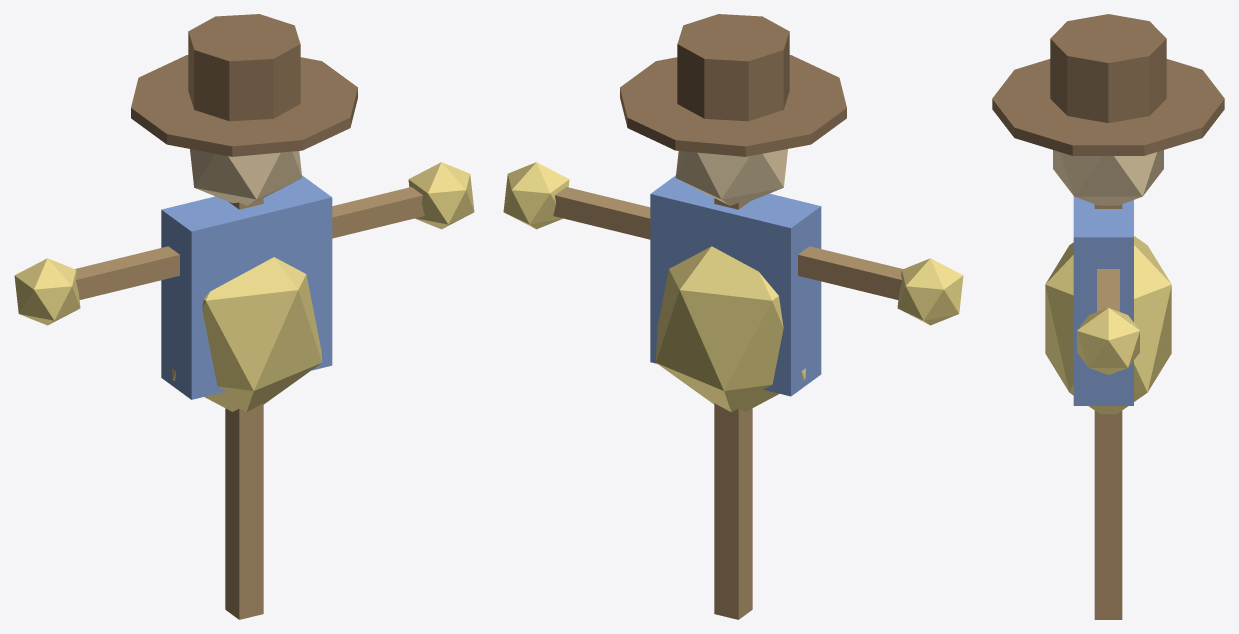
Rendered from Scarecrow.glb.
3 views of the same model, side by side, from view 1: azimuth 30°, elevation 25°; view 2: azimuth 150°, elevation 25°; view 3: azimuth 270°, elevation 25° (orthographic).
Parts seen in each view (by area): view 1: Scarecrow_Shirt, Scarecrow_Body, Scarecrow_Brim, Scarecrow_Hat, Scarecrow_Pole, Scarecrow_Arms, Scarecrow_Head, Scarecrow_Hand, Scarecrow_Hand.001; view 2: Scarecrow_Shirt, Scarecrow_Body, Scarecrow_Brim, Scarecrow_Hat, Scarecrow_Pole, Scarecrow_Arms, Scarecrow_Head, Scarecrow_Hand, Scarecrow_Hand.001; view 3: Scarecrow_Brim, Scarecrow_Hat, Scarecrow_Shirt, Scarecrow_Body, Scarecrow_Pole, Scarecrow_Head, Scarecrow_Hand.001, Scarecrow_Arms.
Boxes of the visible parts, x1,y1,x2,y2 form: Scarecrow_Shirt: (161,175,332,399); Scarecrow_Body: (172,257,322,412); Scarecrow_Brim: (131,55,357,156); Scarecrow_Hat: (188,14,300,121); Scarecrow_Pole: (225,198,263,619); Scarecrow_Arms: (75,187,424,299); Scarecrow_Head: (190,149,302,205); Scarecrow_Hand: (14,258,80,325); Scarecrow_Hand.001: (408,162,474,229); Scarecrow_Shirt: (650,175,821,396); Scarecrow_Body: (655,246,805,412); Scarecrow_Brim: (620,55,846,156); Scarecrow_Hat: (677,14,789,121); Scarecrow_Pole: (714,198,752,619); Scarecrow_Arms: (553,187,902,299); Scarecrow_Head: (675,149,787,205); Scarecrow_Hand: (897,258,963,325); Scarecrow_Hand.001: (503,162,569,229); Scarecrow_Brim: (992,59,1224,155); Scarecrow_Hat: (1050,14,1166,123); Scarecrow_Shirt: (1073,196,1133,405); Scarecrow_Body: (1045,236,1171,414); Scarecrow_Pole: (1094,204,1122,619); Scarecrow_Head: (1053,150,1163,205); Scarecrow_Hand.001: (1077,308,1139,374); Scarecrow_Arms: (1097,269,1119,311).
Bounding box in the file's own units: 2.25 × 2.73 × 1.
